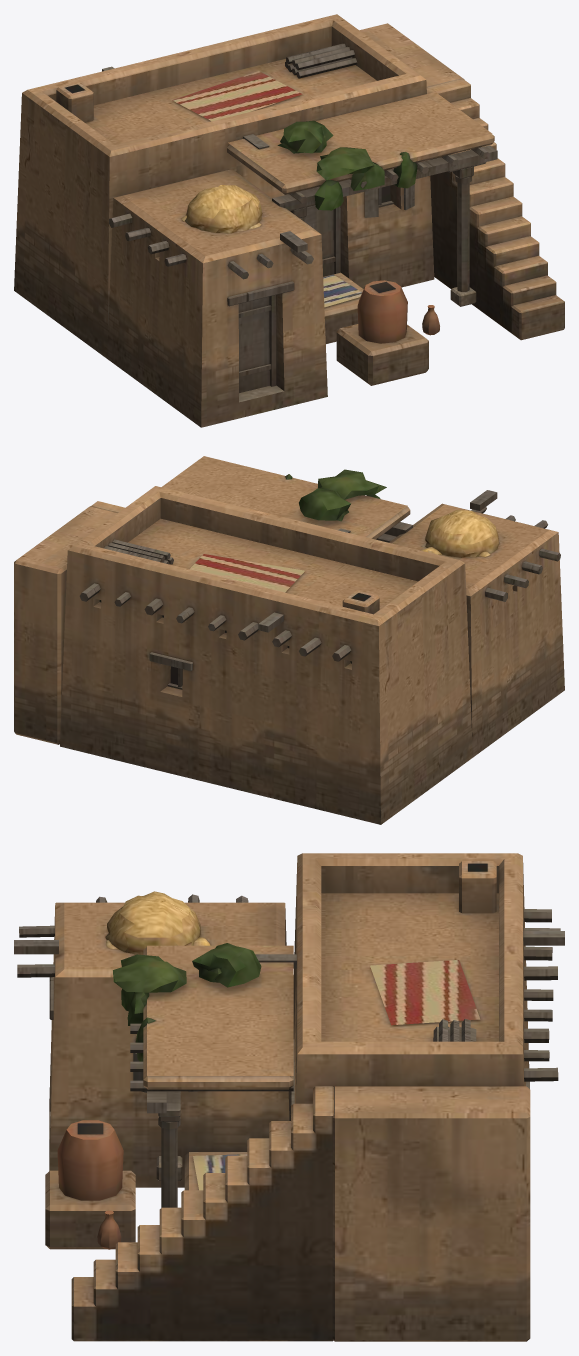
The picture shows the model from 3 angles, top to bottom: view 1: azimuth 30°, elevation 25°; view 2: azimuth 150°, elevation 25°; view 3: azimuth 270°, elevation 25°; orthographic projection. The views are drawn at different scales.
Parts seen in each view (by area): view 1: oh_b; view 2: oh_b; view 3: oh_b.
Part boxes in pixels (x1,y1,x2,y2): oh_b: (14, 14, 564, 427); oh_b: (14, 456, 564, 824); oh_b: (14, 853, 564, 1341).
Size of the model in its own units: 7.75 by 3.96 by 7.33.
Materials: 1 (1 with a texture image).
